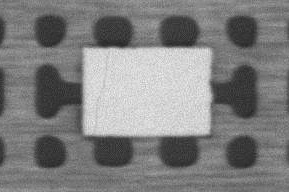DIE_CRACK: (93, 49, 111, 130)
